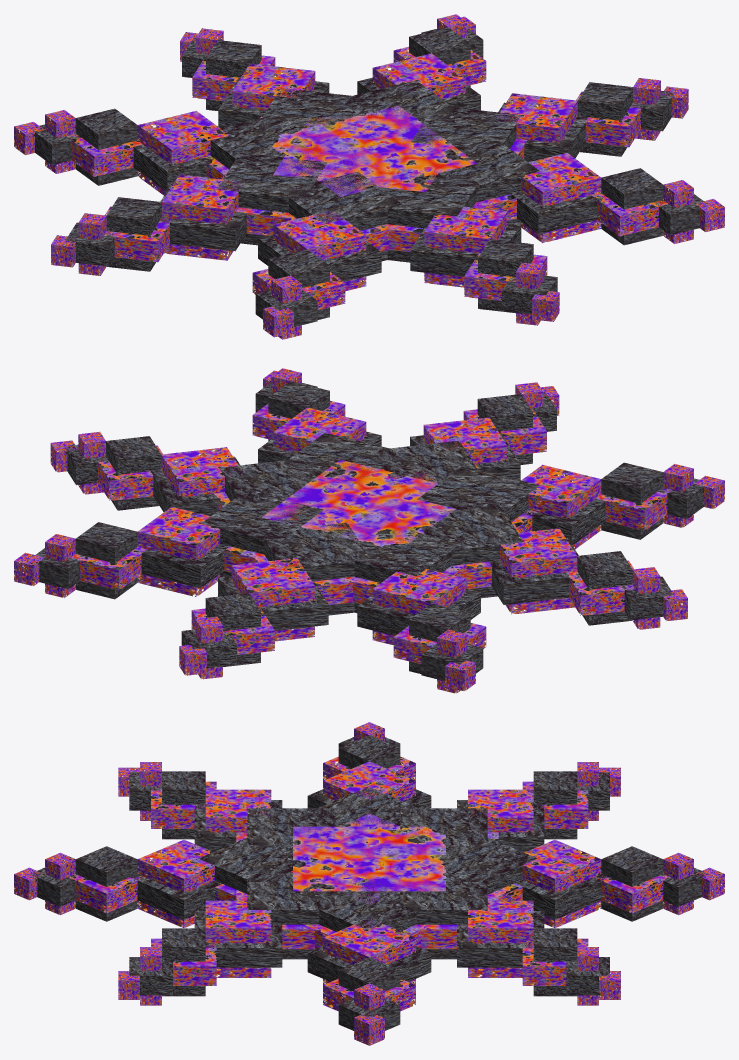
Rendered from charm_of_the_knight.obj.
The picture shows the model from 3 angles, top to bottom: view 1: azimuth 30°, elevation 25°; view 2: azimuth 150°, elevation 25°; view 3: azimuth 270°, elevation 25°; orthographic projection. The views are drawn at different scales.
Visible parts, largest first — view 1: cube, innermost; view 2: cube, innermost; view 3: cube, innermost.
Part boxes in pixels (x1,y1,x2,y2): cube: [14, 14, 724, 339]; innermost: [272, 106, 477, 196]; cube: [14, 368, 724, 693]; innermost: [261, 459, 456, 546]; cube: [14, 722, 724, 1045]; innermost: [290, 813, 446, 904].
Bounding box in the file's own units: 2.03 × 0.1562 × 2.03.
